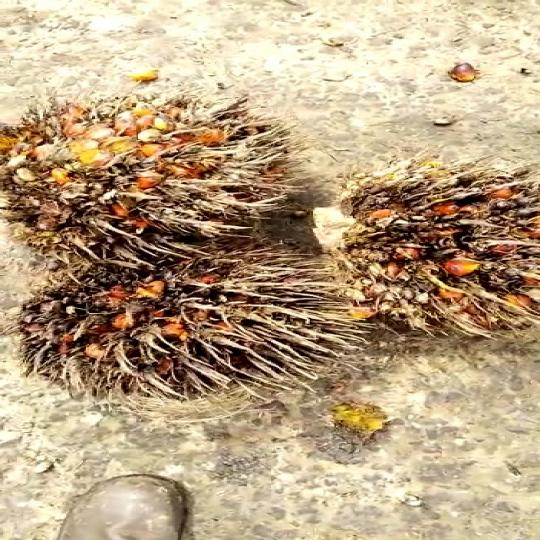terlalu masak: (0, 96, 301, 267), (0, 252, 362, 392), (314, 179, 540, 333)
